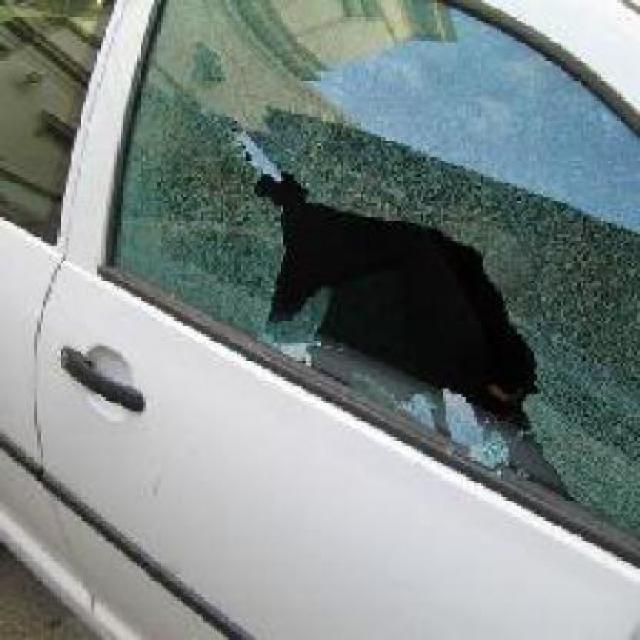damaged-window: (105, 0, 638, 560)
